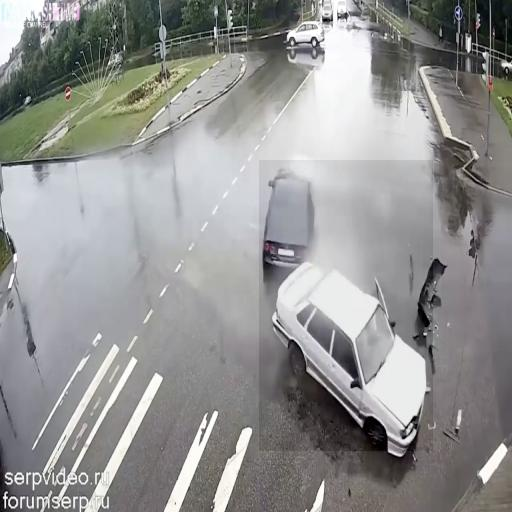小汽车: (289, 21, 323, 48), (324, 2, 334, 24), (336, 0, 346, 21)
小汽车撞小汽车: (259, 160, 433, 451)
